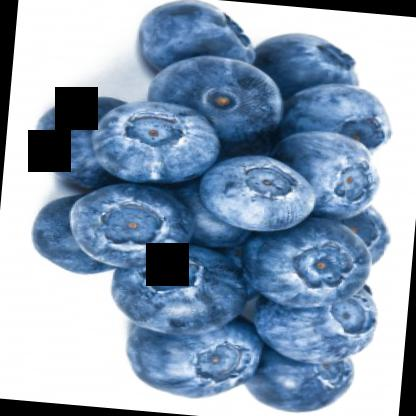blueberry: (230, 210, 376, 314), (139, 54, 290, 152), (103, 238, 247, 339), (122, 312, 260, 403), (66, 177, 196, 271), (90, 99, 220, 189), (131, 0, 260, 84), (249, 281, 378, 365), (192, 149, 314, 235), (276, 130, 382, 218), (252, 25, 365, 100), (282, 82, 396, 155)
